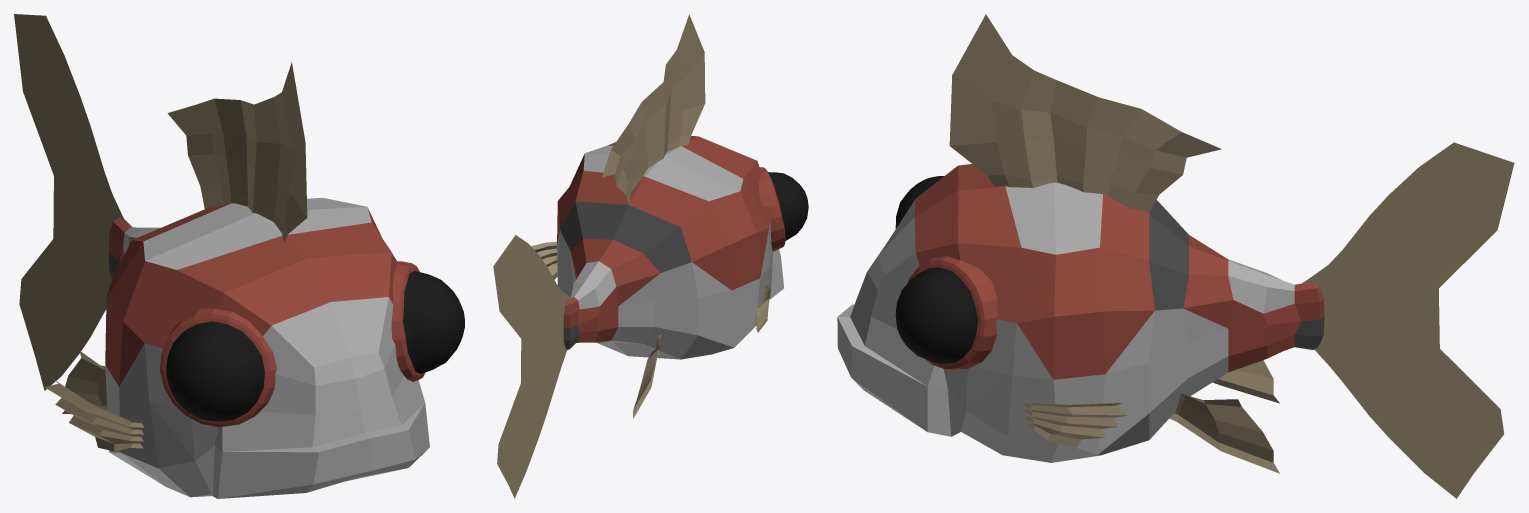
The model's file is q_koi.fbx.
The picture shows the model from 3 angles, left to right: view 1: azimuth 30°, elevation 25°; view 2: azimuth 150°, elevation 25°; view 3: azimuth 270°, elevation 25°; orthographic projection. The views are drawn at different scales.
Parts seen in each view (by area): view 1: q_koi; view 2: q_koi; view 3: q_koi.
Part boxes in pixels (x1=…): q_koi: x1=14, y1=14, x2=464, y2=498; q_koi: x1=493, y1=14, x2=808, y2=498; q_koi: x1=837, y1=14, x2=1514, y2=498.
Size of the model in its own units: 0.5608 by 0.7895 by 1.
